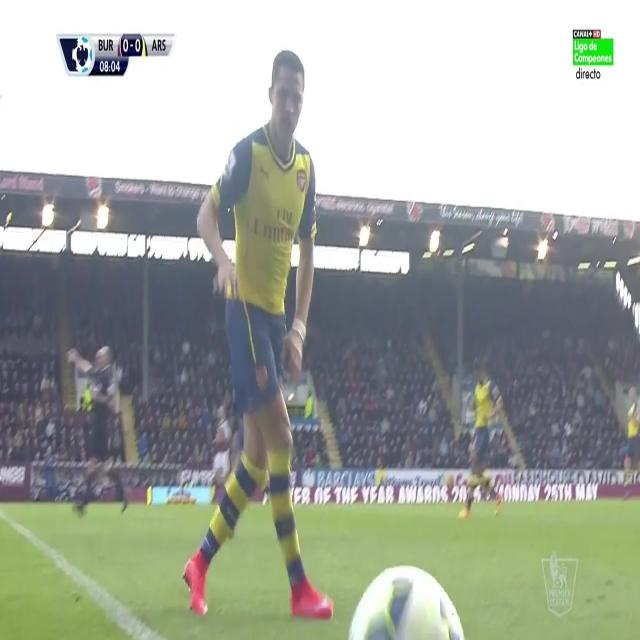Ball: (346, 562, 468, 640)
Player: (184, 46, 336, 623), (453, 355, 510, 523), (618, 384, 640, 499)
Referee: (65, 336, 133, 516)
